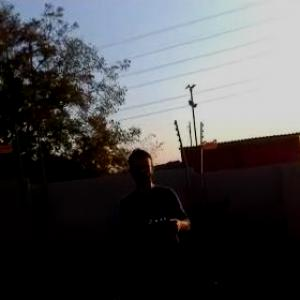follow: (112, 138, 206, 299)
